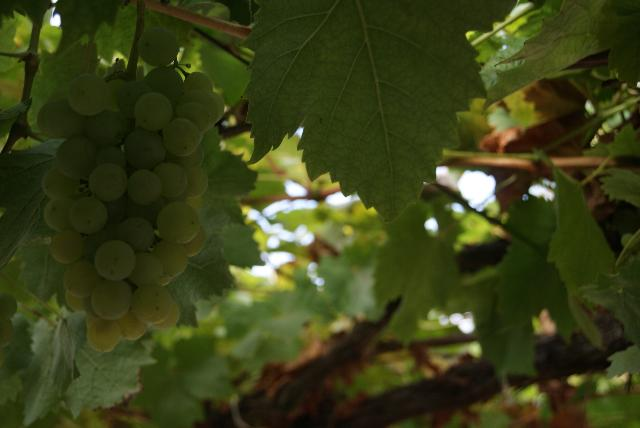grapes: (39, 27, 219, 352)
